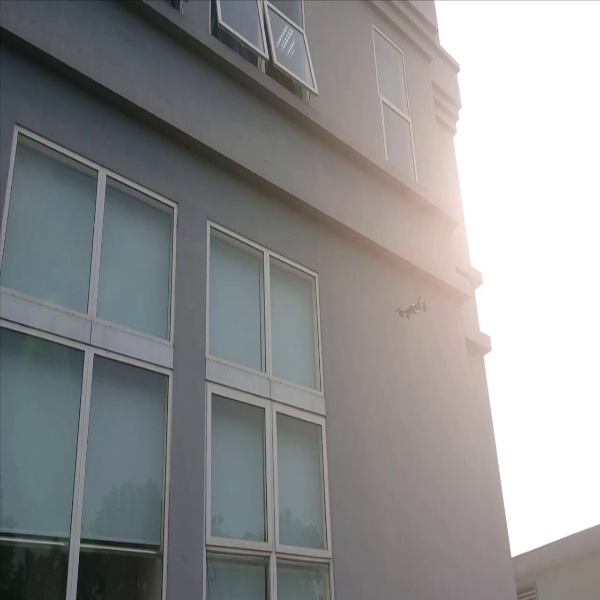drone: (391, 289, 434, 324)
